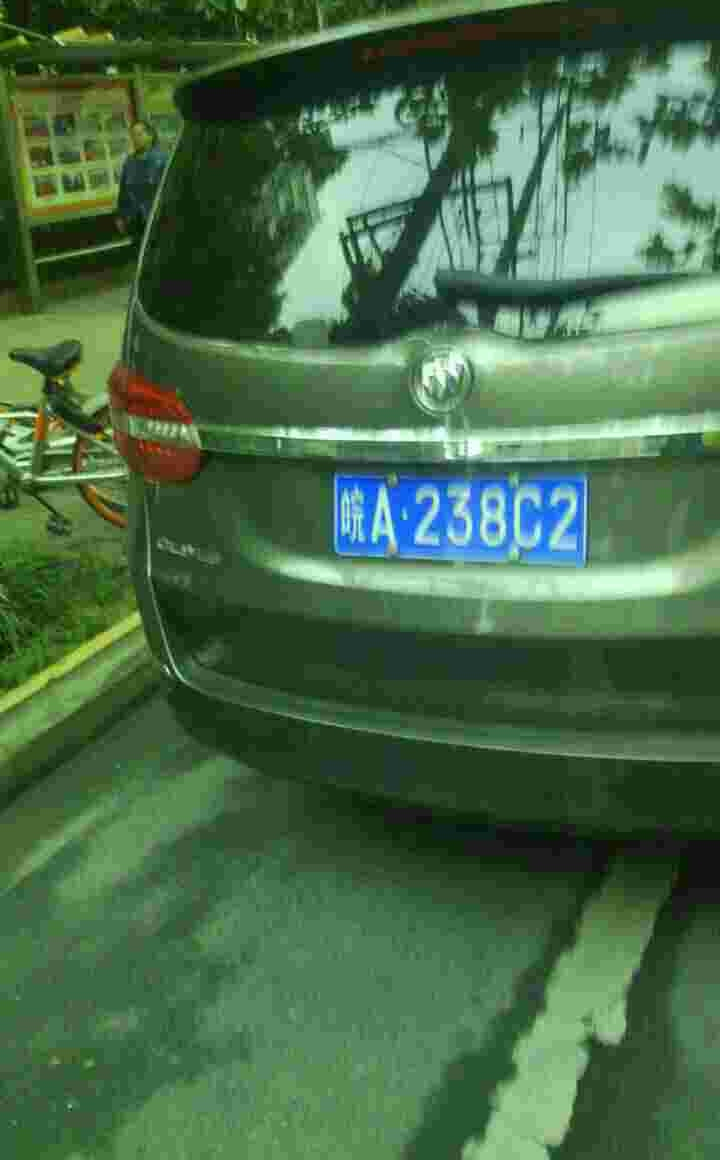license_plate: (330, 482, 590, 565)
